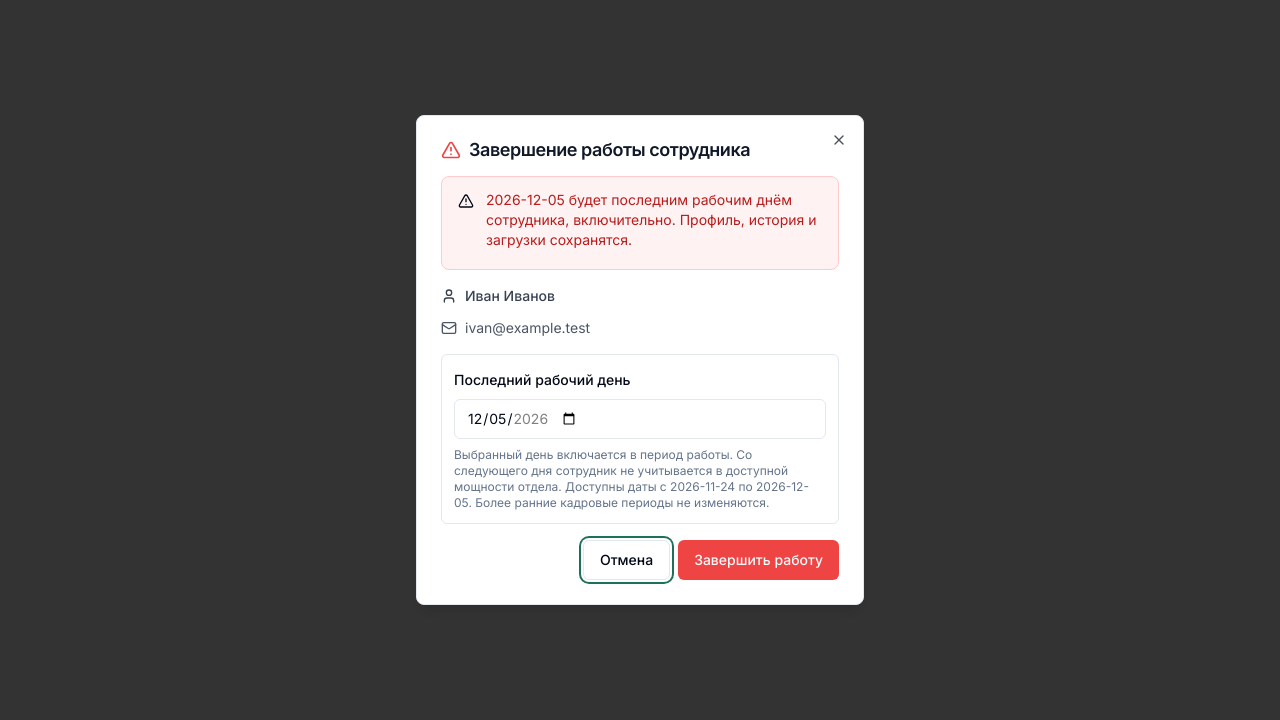
Test case: employment finish confirmation › explains preserved history and separate access control before confirming
This screenshot has width=1280, height=720.
Later steps or results of the test are not shown.
Expected: the text "последним рабочим днём" shows "Профиль, история и загрузки сохранятся", x1=486 y1=191 x2=817 y2=248
Click the button "Завершить работу".
click(759, 560)  # box x1=678 y1=540 x2=839 y2=580
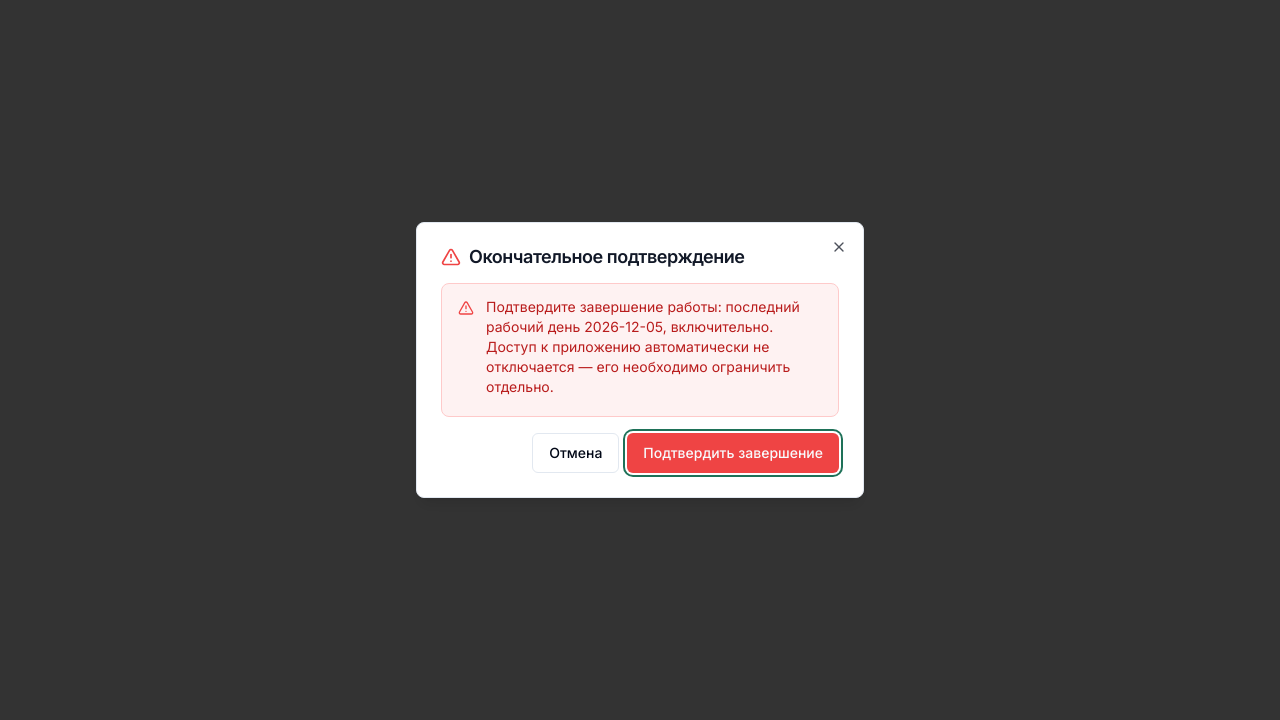
Now the text "Доступ к приложению автоматически не отключается" is shown, box x1=486 y1=298 x2=800 y2=395
